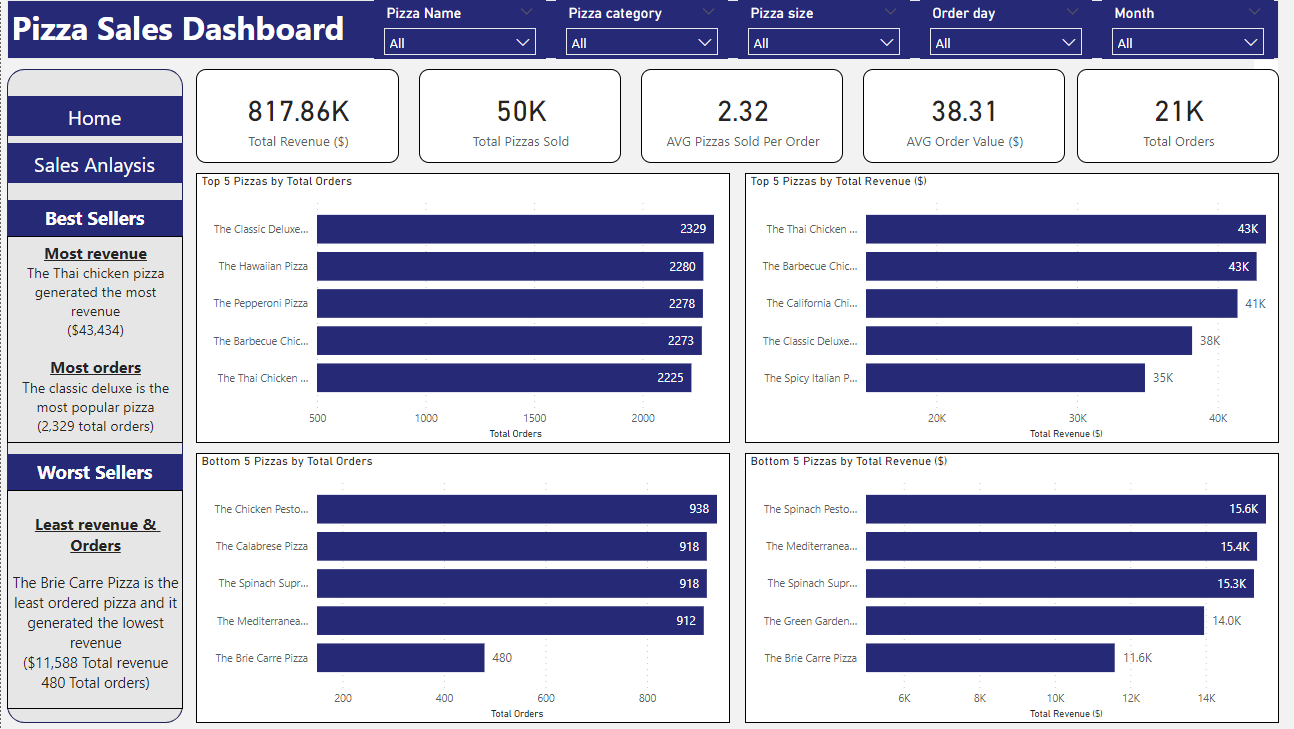

This screenshot's page, from the dashboard's own definition file:
{"tool":"powerbi","page":{"name":"Sales Analysis","canvas":[1295,730],"ordinal":1},"visuals":[{"type":"textbox","box":[6,0,1272,59],"z":0},{"type":"card","fields":{"Values":["pizza_sales.Total Revenue"]},"box":[195,69,203,94],"z":1000},{"type":"card","fields":{"Values":["pizza_sales.AVG Order Value"]},"box":[862,69,202,94],"z":2000},{"type":"card","fields":{"Values":["pizza_sales.Total Pizzas Sold"]},"box":[418,69,202,94],"z":3000},{"type":"card","fields":{"Values":["pizza_sales.Total Orders"]},"box":[1076,69,202,94],"z":4000},{"type":"card","fields":{"Values":["pizza_sales.AVG Pizzas Sold Per Order"]},"box":[640,69,202,94],"z":5000},{"type":"slicer","fields":{"Values":["pizza_sales.pizza_name"]},"box":[373,0,172,59],"z":11000},{"type":"slicer","fields":{"Values":["pizza_sales.pizza_category"]},"box":[555,0,172,59],"z":12000},{"type":"slicer","fields":{"Values":["pizza_sales.pizza_size"]},"box":[737,0,172,59],"z":13000},{"type":"slicer","fields":{"Values":["pizza_sales.Order_day"]},"box":[919,0,172,59],"z":14000},{"type":"slicer","fields":{"Values":["pizza_sales.order_date.Variation.Date Hierarchy.Month"]},"box":[1101,0,172,59],"z":15000},{"type":"shape","box":[6,69,176,654],"z":16000},{"type":"actionButton","box":[6,96,176,40],"z":17000},{"type":"actionButton","box":[6,143,176,40],"z":18000},{"type":"barChart","title":"Top 5 Pizzas by Total Orders","fields":{"Y":["pizza_sales.Total Orders"],"Category":["pizza_sales.Pizza Name"]},"box":[195,173,534,270],"z":18001},{"type":"barChart","title":"Top 5 Pizzas by Total Revenue ($)","fields":{"Category":["pizza_sales.Pizza Name"],"Y":["pizza_sales.Total Revenue ($)"]},"box":[744,173,534,270],"z":18005},{"type":"barChart","title":"Bottom 5 Pizzas by Total Revenue ($)","fields":{"Category":["pizza_sales.Pizza Name"],"Y":["pizza_sales.Total Revenue ($)"]},"box":[744,453,534,270],"z":18006},{"type":"barChart","title":"Bottom 5 Pizzas by Total Orders","fields":{"Y":["pizza_sales.Total Orders"],"Category":["pizza_sales.Pizza Name"]},"box":[195,453,534,270],"z":18007},{"type":"textbox","box":[6,236,176,207],"z":18009},{"type":"textbox","box":[6,490,176,219],"z":18010},{"type":"textbox","box":[6,200,176,36],"z":18011},{"type":"textbox","box":[6,454,176,36],"z":18012}]}

Visuals, with their boxes in screenshot pixels (x1, y1, x2, y2), scaled from the page's 1295x730 canvas onto the 1294x729 screenshot:
textbox: rect(6, 0, 1277, 59)
card - pizza_sales.Total Revenue: rect(195, 69, 398, 163)
card - pizza_sales.AVG Order Value: rect(861, 69, 1063, 163)
card - pizza_sales.Total Pizzas Sold: rect(418, 69, 620, 163)
card - pizza_sales.Total Orders: rect(1075, 69, 1277, 163)
card - pizza_sales.AVG Pizzas Sold Per Order: rect(640, 69, 841, 163)
slicer - pizza_sales.pizza_name: rect(373, 0, 545, 59)
slicer - pizza_sales.pizza_category: rect(555, 0, 726, 59)
slicer - pizza_sales.pizza_size: rect(736, 0, 908, 59)
slicer - pizza_sales.Order_day: rect(918, 0, 1090, 59)
slicer - pizza_sales.order_date.Variation.Date Hierarchy.Month: rect(1100, 0, 1272, 59)
shape: rect(6, 69, 182, 722)
actionButton: rect(6, 96, 182, 136)
actionButton: rect(6, 143, 182, 183)
"Top 5 Pizzas by Total Orders" barChart: rect(195, 173, 728, 442)
"Top 5 Pizzas by Total Revenue ($)" barChart: rect(743, 173, 1277, 442)
"Bottom 5 Pizzas by Total Revenue ($)" barChart: rect(743, 452, 1277, 722)
"Bottom 5 Pizzas by Total Orders" barChart: rect(195, 452, 728, 722)
textbox: rect(6, 236, 182, 442)
textbox: rect(6, 489, 182, 708)
textbox: rect(6, 200, 182, 236)
textbox: rect(6, 453, 182, 489)
